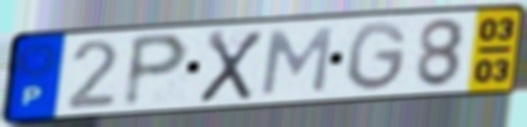2: (61, 37, 121, 113)
8: (414, 15, 468, 91)
G: (345, 19, 411, 95)
M: (257, 24, 336, 98)
P: (119, 30, 193, 111)
X: (195, 28, 266, 105)
